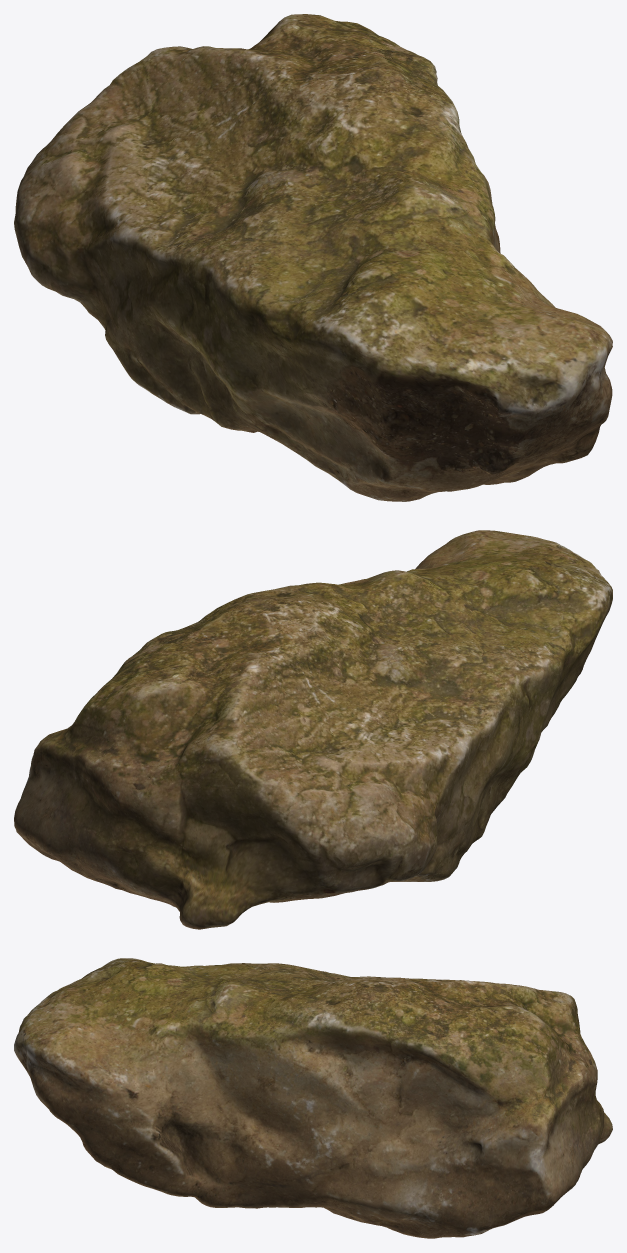
Rendered from roquita.glb.
The picture shows the model from 3 angles, top to bottom: view 1: azimuth 30°, elevation 25°; view 2: azimuth 150°, elevation 25°; view 3: azimuth 270°, elevation 25°; orthographic projection. The views are drawn at different scales.
Parts seen in each view (by area): view 1: moss_rock_06-material; view 2: moss_rock_06-material; view 3: moss_rock_06-material.
Boxes of the visible parts, x1=… form: moss_rock_06-material: x1=14, y1=14, x2=612, y2=501; moss_rock_06-material: x1=14, y1=530, x2=612, y2=929; moss_rock_06-material: x1=14, y1=958, x2=612, y2=1238.
Size of the model in its own units: 1.82 by 1.21 by 3.
Materials: 1 (1 with a texture image).
